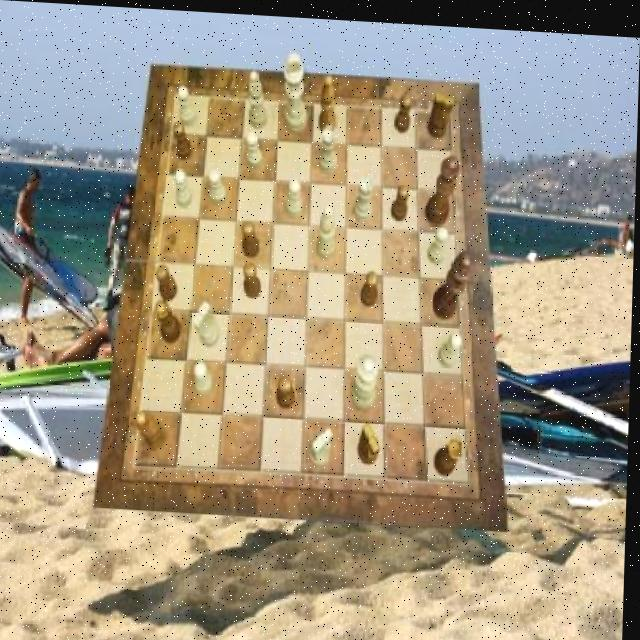bishop: (139, 410, 171, 449), (320, 72, 339, 131)
black-bishop: (435, 244, 474, 316)
black-king: (428, 89, 455, 134), (360, 419, 384, 462)
black-knight: (158, 263, 181, 300), (174, 119, 194, 158), (242, 218, 262, 254), (396, 90, 414, 130), (391, 179, 409, 217), (277, 373, 297, 406), (244, 259, 262, 295), (362, 266, 380, 302)
black-pawn: (426, 149, 461, 223)
black-queen: (157, 297, 185, 342), (439, 432, 467, 471)
black-rook: (248, 67, 270, 125), (317, 200, 338, 255)
white-bishop: (284, 50, 310, 131)
white-king: (195, 299, 224, 345), (313, 423, 337, 464)
white-knight: (177, 85, 198, 126), (440, 325, 463, 362), (430, 220, 451, 259), (174, 167, 194, 206), (208, 167, 228, 202), (247, 127, 265, 165), (288, 175, 305, 215), (196, 359, 215, 393)
white-pawn: (353, 349, 382, 405)
white-queen: (354, 171, 375, 218), (320, 121, 338, 170)
